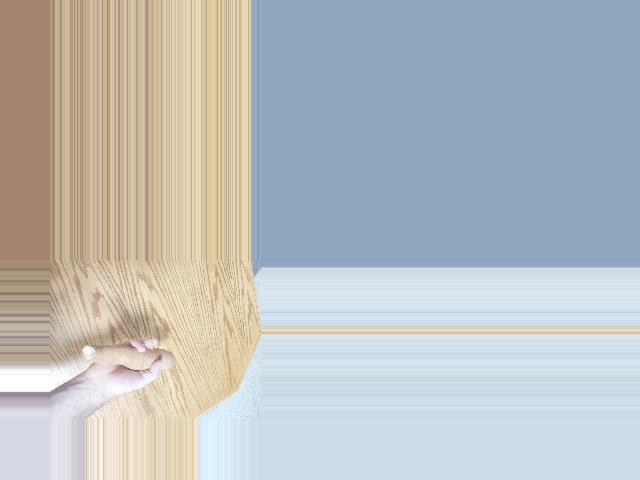sweet_potato: (78, 341, 179, 365)
